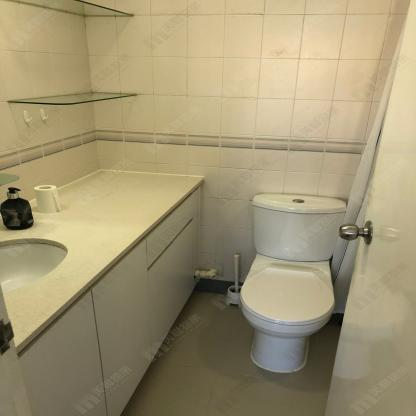Toilet: (238, 193, 347, 374)
Toilet Sink: (0, 236, 68, 299)
